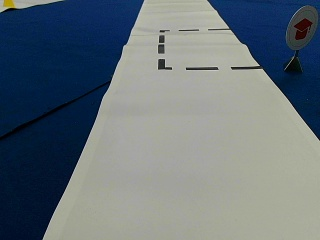school: (285, 4, 317, 49)
